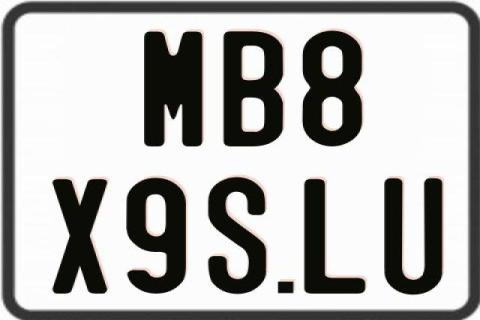0: (125, 178, 191, 294), (299, 30, 360, 146)
B: (223, 29, 284, 147)
L: (303, 178, 370, 298)
M: (142, 32, 204, 152)
S: (206, 176, 266, 298)
U: (381, 178, 441, 298)
X: (50, 179, 107, 296)
